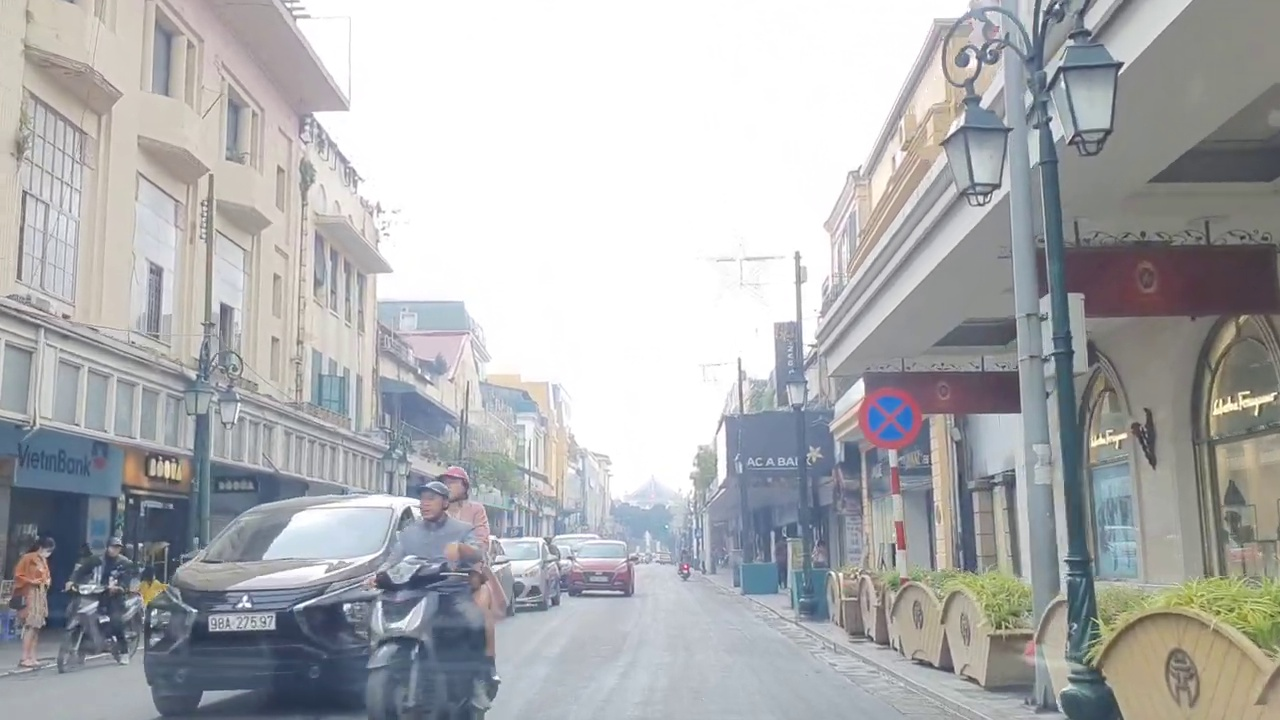person: (202, 611, 282, 632)
